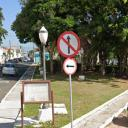NoSeguir: (57, 30, 80, 59)
